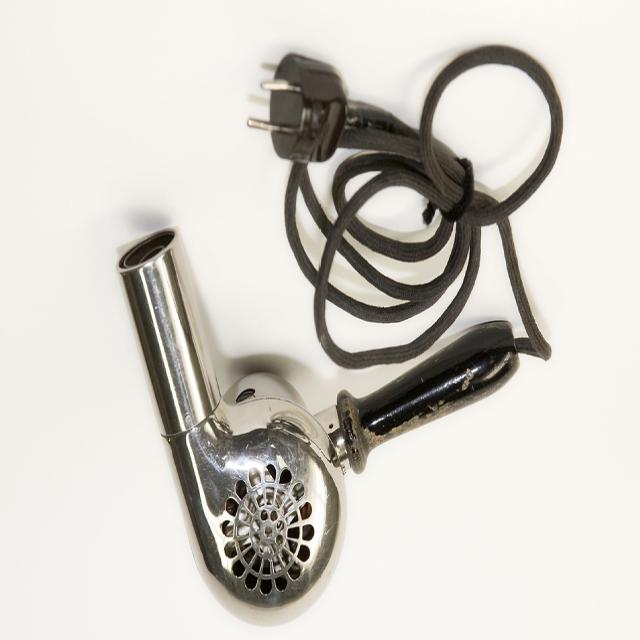dryer: (108, 190, 547, 640)
